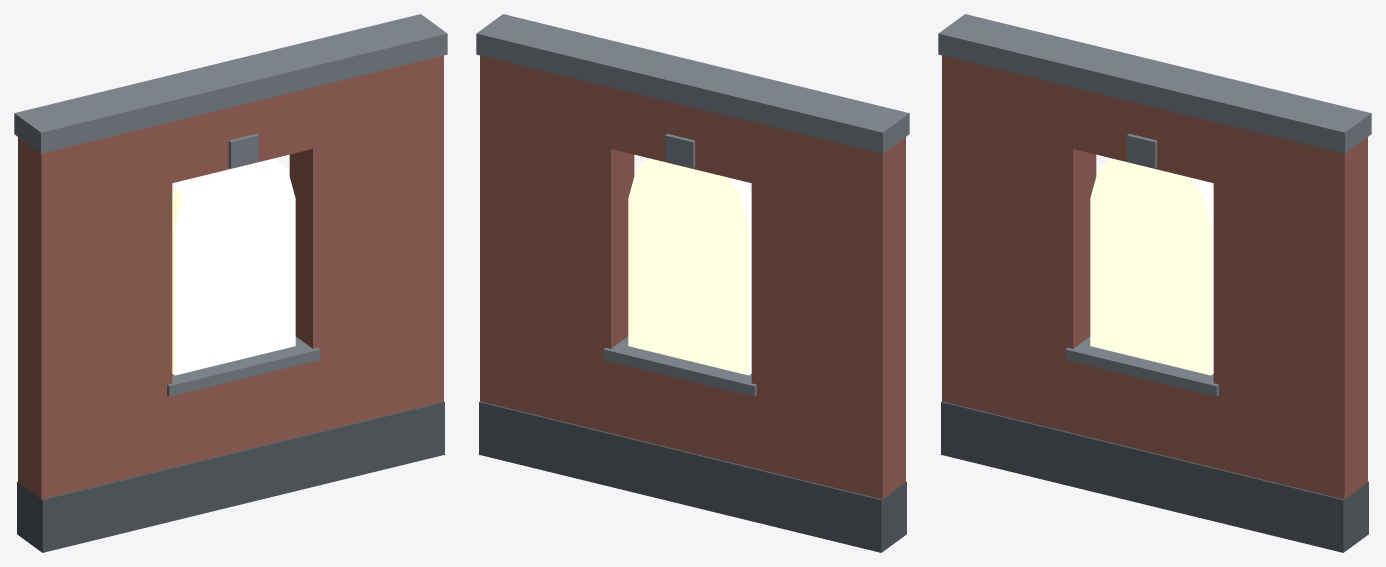
The model's file is arkham_wall_brickarchedwindow.glb.
3 renders of one model, left to right at view 1: azimuth 30°, elevation 25°; view 2: azimuth 150°, elevation 25°; view 3: azimuth 330°, elevation 25°, orthographic.
Parts seen in each view (by area): view 1: Arkham_Wall_BrickArchedWindow; view 2: Arkham_Wall_BrickArchedWindow; view 3: Arkham_Wall_BrickArchedWindow.
Boxes of the visible parts, x1,y1,x2,y2 form: Arkham_Wall_BrickArchedWindow: [14, 14, 447, 552]; Arkham_Wall_BrickArchedWindow: [476, 14, 909, 552]; Arkham_Wall_BrickArchedWindow: [938, 14, 1371, 552].
Bounding box in the file's own units: 4.04 × 4 × 0.48.
